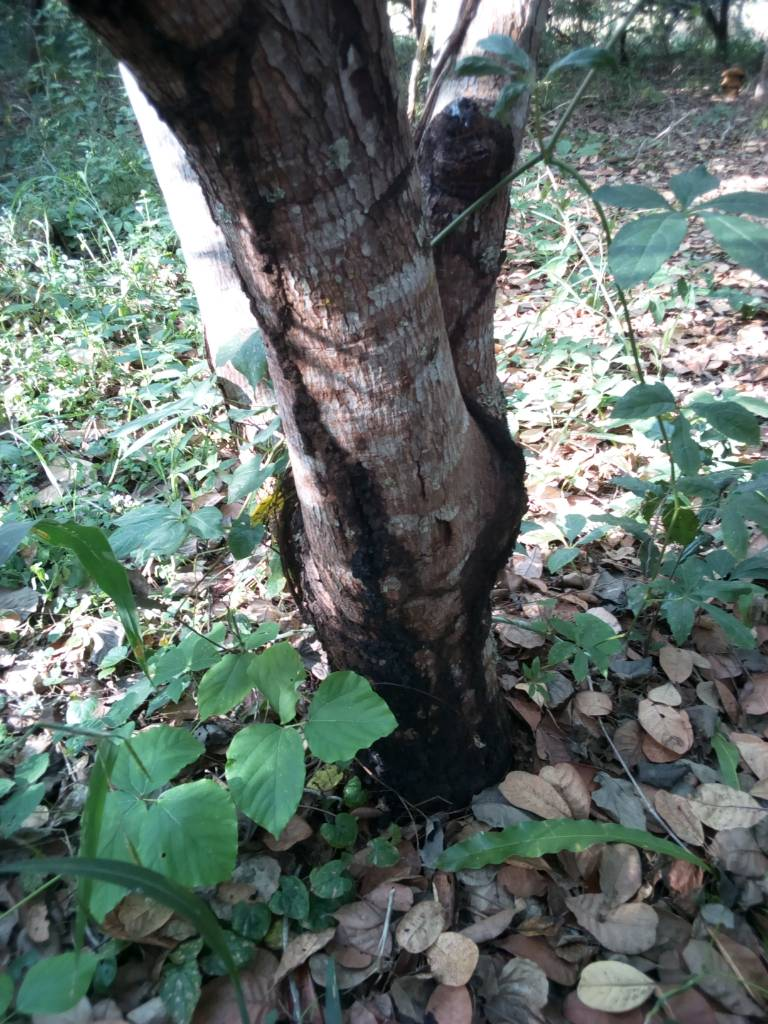Termites: (340, 438, 521, 763), (235, 74, 336, 430)
